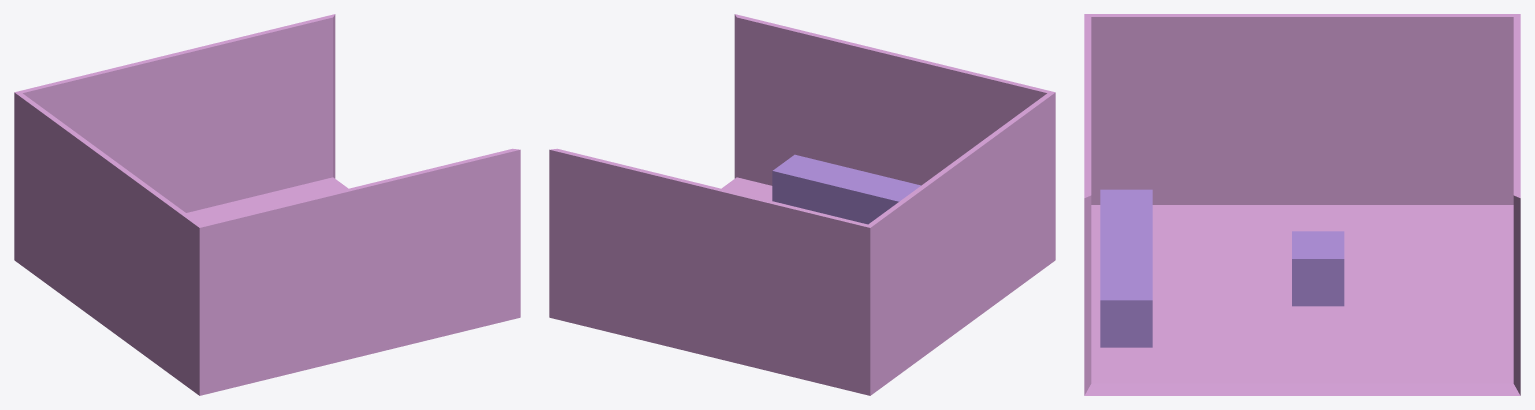
The model's file is complete_room.gltf.
3 renders of one model, left to right at view 1: azimuth 30°, elevation 25°; view 2: azimuth 150°, elevation 25°; view 3: azimuth 270°, elevation 25°, orthographic. The views are drawn at different scales.
Parts seen in each view (by area): view 1: Raum_10x10x3; view 2: Raum_10x10x3, Pedestal_6x1.2x1.2; view 3: Raum_10x10x3, Pedestal_6x1.2x1.2, Pedestal_1.5x1.2x1.2.
Boxes of the visible parts, x1,y1,x2,y2 form: Raum_10x10x3: (14,14,520,395); Raum_10x10x3: (549,14,1055,395); Pedestal_6x1.2x1.2: (772,154,920,224); Raum_10x10x3: (1084,14,1520,395); Pedestal_6x1.2x1.2: (1100,189,1152,347); Pedestal_1.5x1.2x1.2: (1292,231,1344,306).
Bounding box in the file's own units: 20 × 10 × 20.
